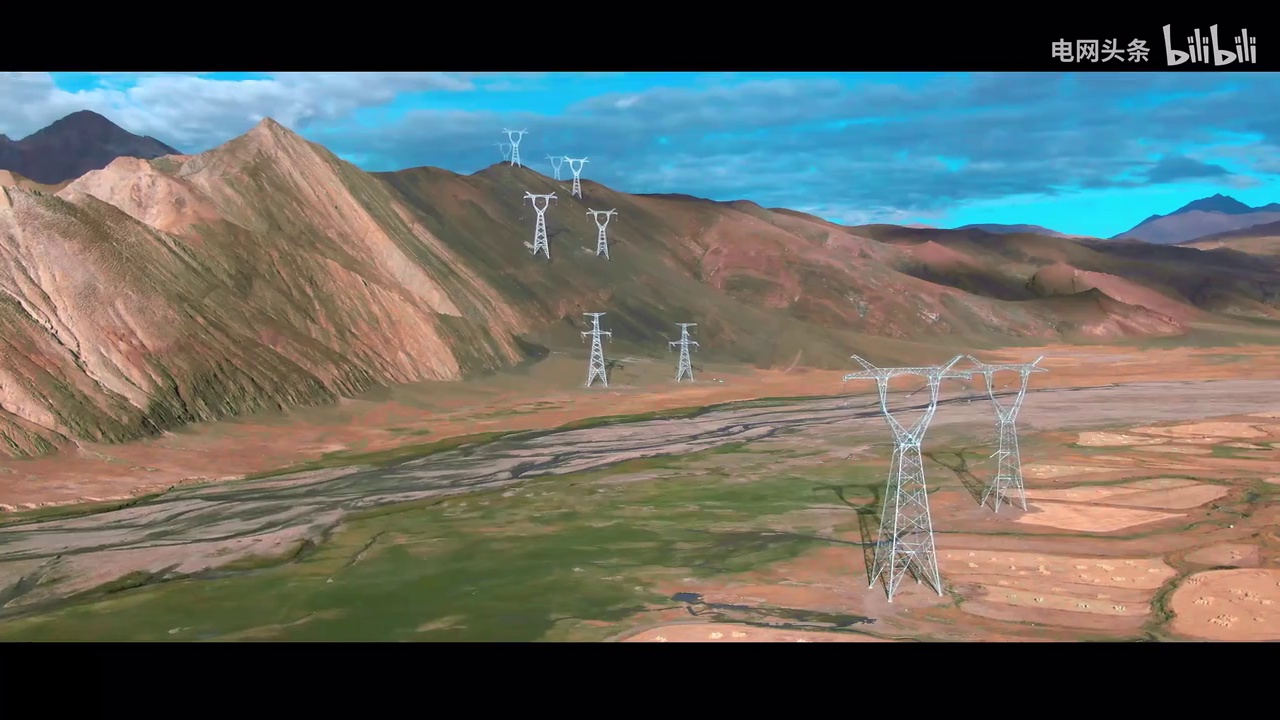tower_body: (832, 340, 975, 606), (970, 342, 1056, 521), (579, 308, 617, 390), (521, 187, 559, 259), (670, 314, 703, 389), (585, 200, 624, 263)
tower_foot: (870, 525, 951, 600), (976, 466, 1035, 516)
tower_head: (836, 347, 975, 446), (969, 353, 1052, 423)
